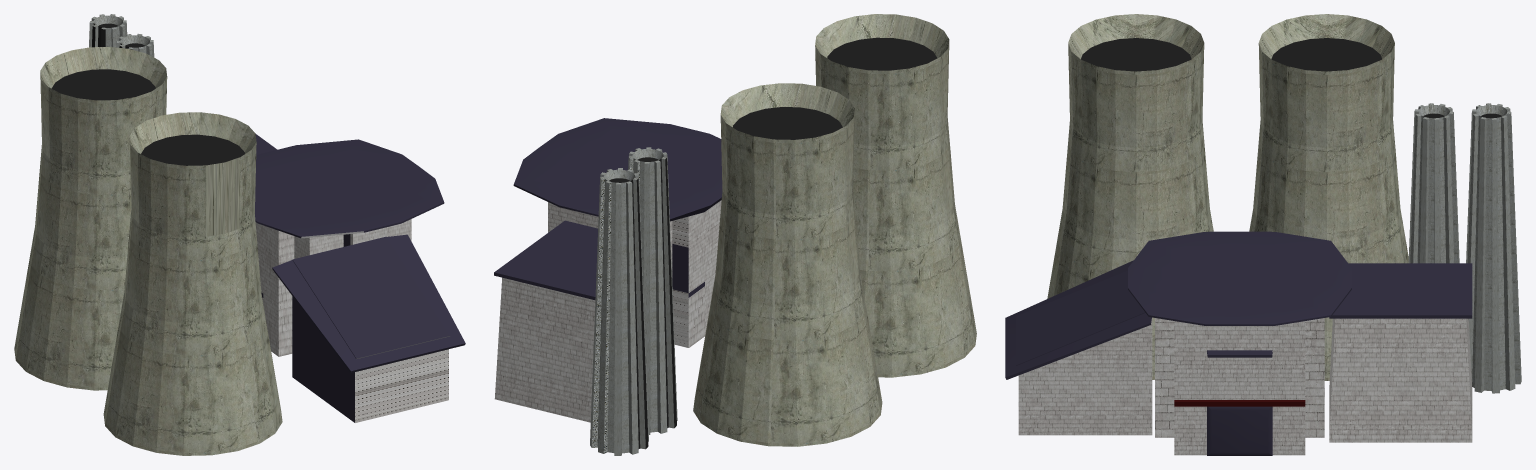
File: factory.fbx
3 views of the same model, side by side, from view 1: azimuth 30°, elevation 25°; view 2: azimuth 150°, elevation 25°; view 3: azimuth 270°, elevation 25° (orthographic). The views are drawn at different scales.
Parts seen in each view (by area): view 1: pCylinder163, pCylinder166, pCube155, pCube154, pCylinder168, pCylinder165; view 2: pCylinder166, pCylinder163, pCube154, pCube156, pCylinder168, pCylinder165; view 3: pCube154, pCylinder163, pCylinder166, pCube156, pCube155, pCylinder168, pCylinder165.
Boxes of the visible parts, <box> form: pCylinder163: <box>103,112,282,455</box>; pCylinder166: <box>14,46,167,390</box>; pCube155: <box>272,234,465,422</box>; pCube154: <box>255,139,444,356</box>; pCylinder168: <box>89,14,127,47</box>; pCylinder165: <box>116,33,154,57</box>; pCylinder166: <box>693,83,882,446</box>; pCylinder163: <box>815,14,976,377</box>; pCube154: <box>513,118,722,347</box>; pCube156: <box>494,220,597,422</box>; pCylinder168: <box>590,168,648,455</box>; pCylinder165: <box>628,147,677,434</box>; pCube154: <box>1128,231,1351,455</box>; pCylinder163: <box>1047,14,1213,379</box>; pCylinder166: <box>1249,14,1408,380</box>; pCube156: <box>1329,263,1472,442</box>; pCube155: <box>1005,260,1152,435</box>; pCylinder168: <box>1466,103,1521,393</box>; pCylinder165: <box>1408,103,1459,263</box>.
Bounding box in the file's own units: 554 × 419 × 659.
